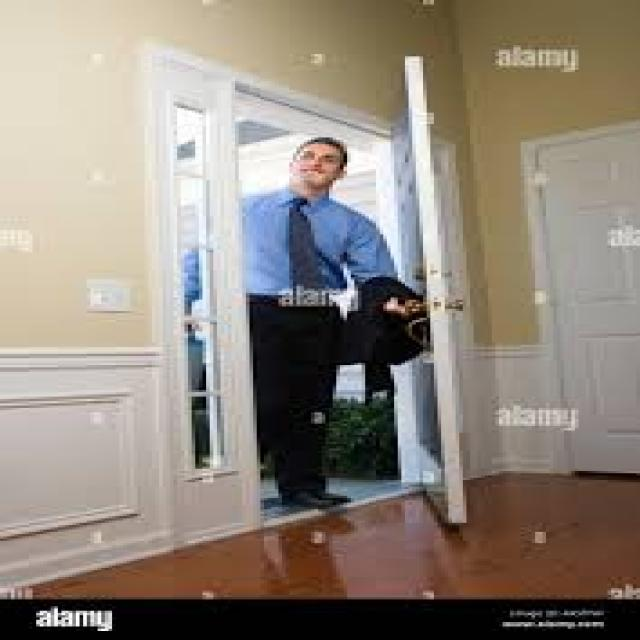person-without-mask: (221, 121, 439, 518)
